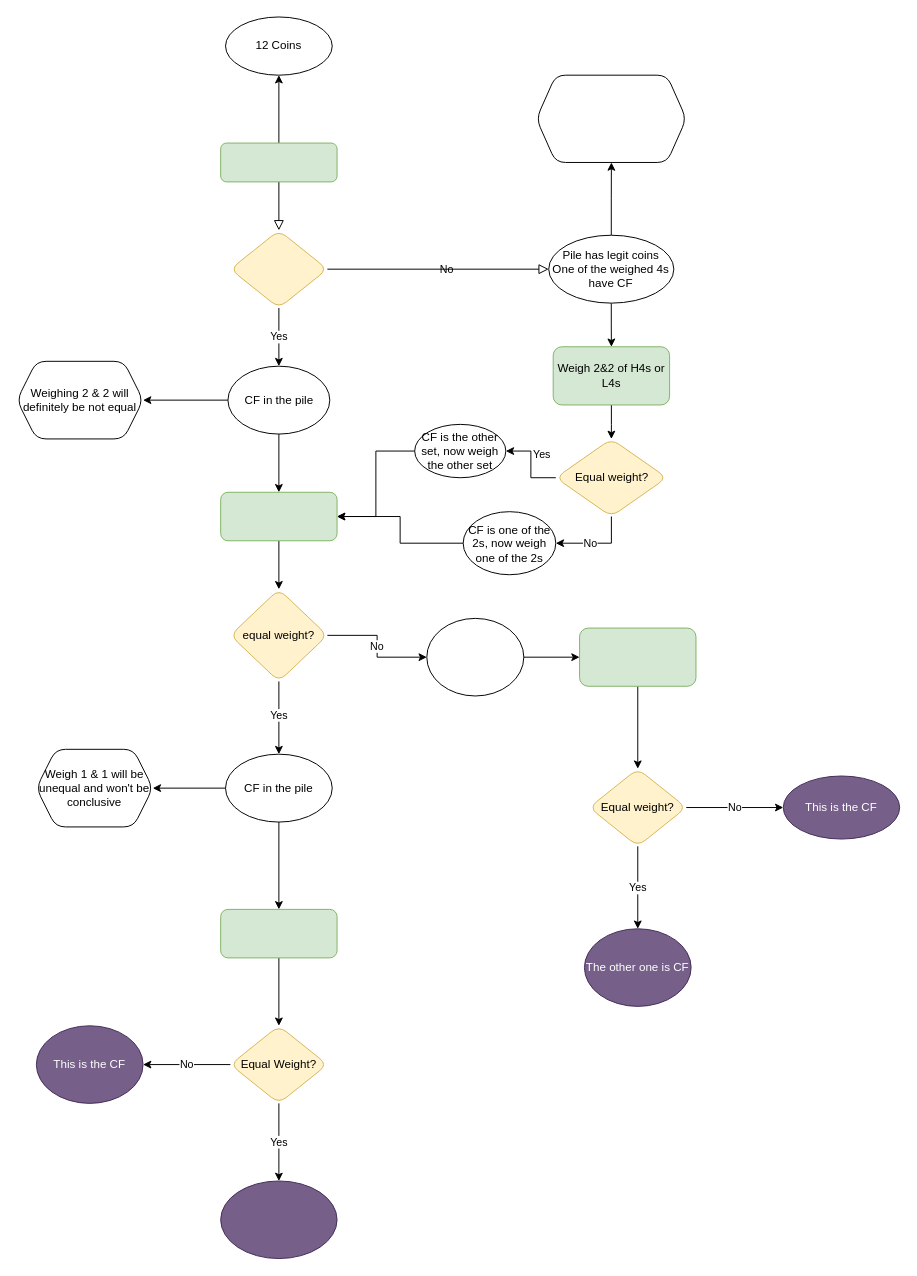
Image size: 917x1276. Some labels were removed from this diagram. Each missing label, with the box of its shape:
equal weight: (229, 229, 327, 308)
one of them CF: (426, 617, 524, 696)
The other one is the CF: (220, 1180, 337, 1259)
Wegh one of them againt one in the pile: (579, 627, 696, 686)
Weigh 1 & 1, leave 2 in a pile: (220, 491, 337, 541)
Weigh 1 against the not CF: (220, 908, 337, 958)
weigh 4 & 4. leave 4 ina pile: (220, 142, 337, 182)
Weighed 4s - one set was heavier (H4s) and the other set was lighter (L4s): (535, 74, 686, 162)
